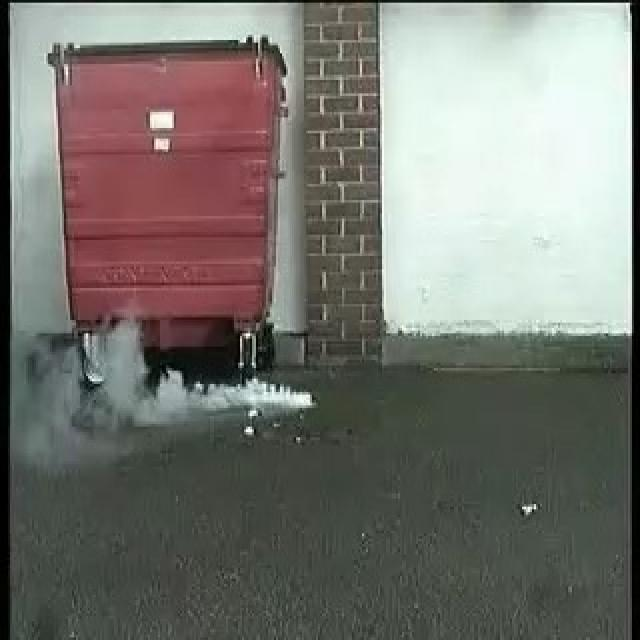smoke: (87, 325, 316, 420)
